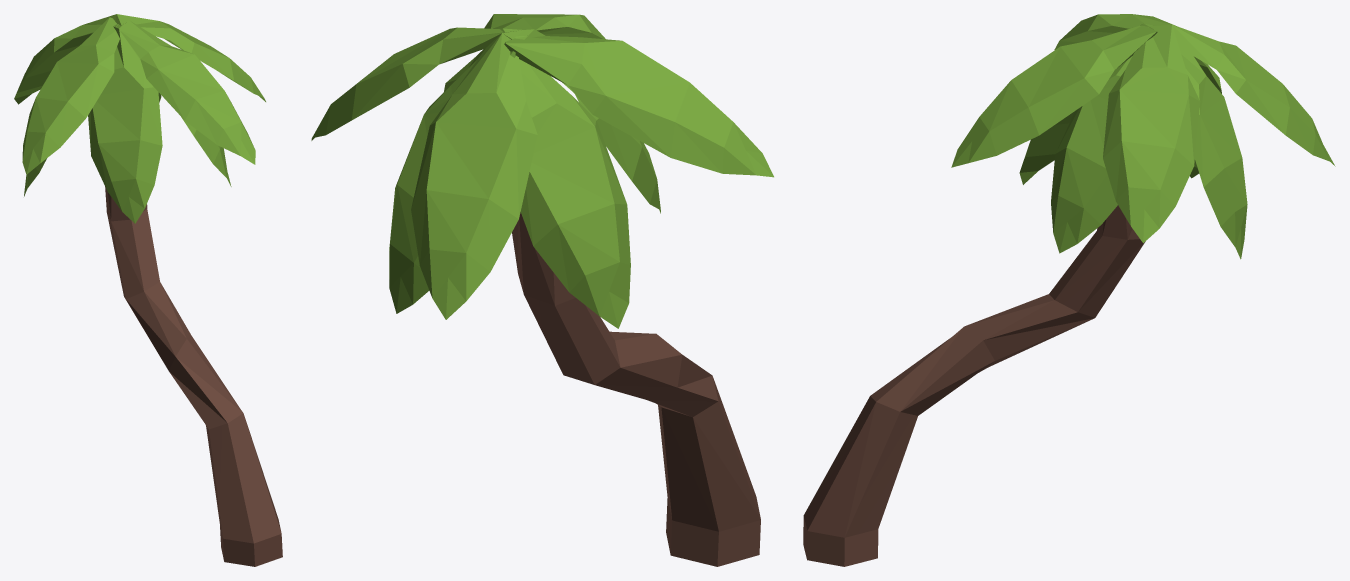
The picture shows the model from 3 angles, left to right: view 1: azimuth 30°, elevation 25°; view 2: azimuth 150°, elevation 25°; view 3: azimuth 270°, elevation 25°; orthographic projection. The views are drawn at different scales.
Visible parts, largest first — view 1: node_MeshObject538043968-PolyPaper20; view 2: node_MeshObject538043968-PolyPaper20; view 3: node_MeshObject538043968-PolyPaper20.
Part boxes in pixels (x1,y1,x2,y2): node_MeshObject538043968-PolyPaper20: [14, 14, 282, 566]; node_MeshObject538043968-PolyPaper20: [311, 14, 773, 566]; node_MeshObject538043968-PolyPaper20: [803, 14, 1335, 566].
Bounding box in the file's own units: 0.2315 × 0.3554 × 0.3235.
